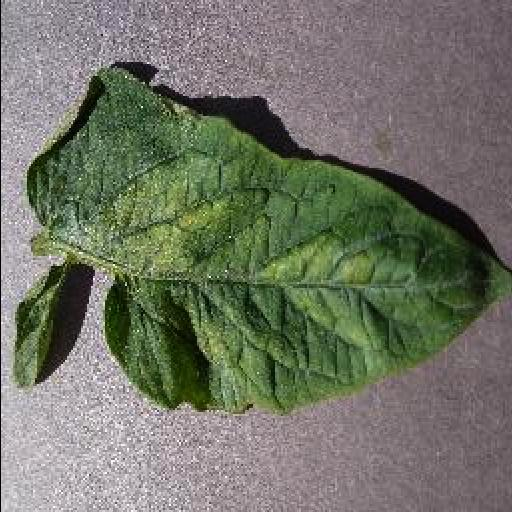disease_tomato: (24, 66, 512, 412)
